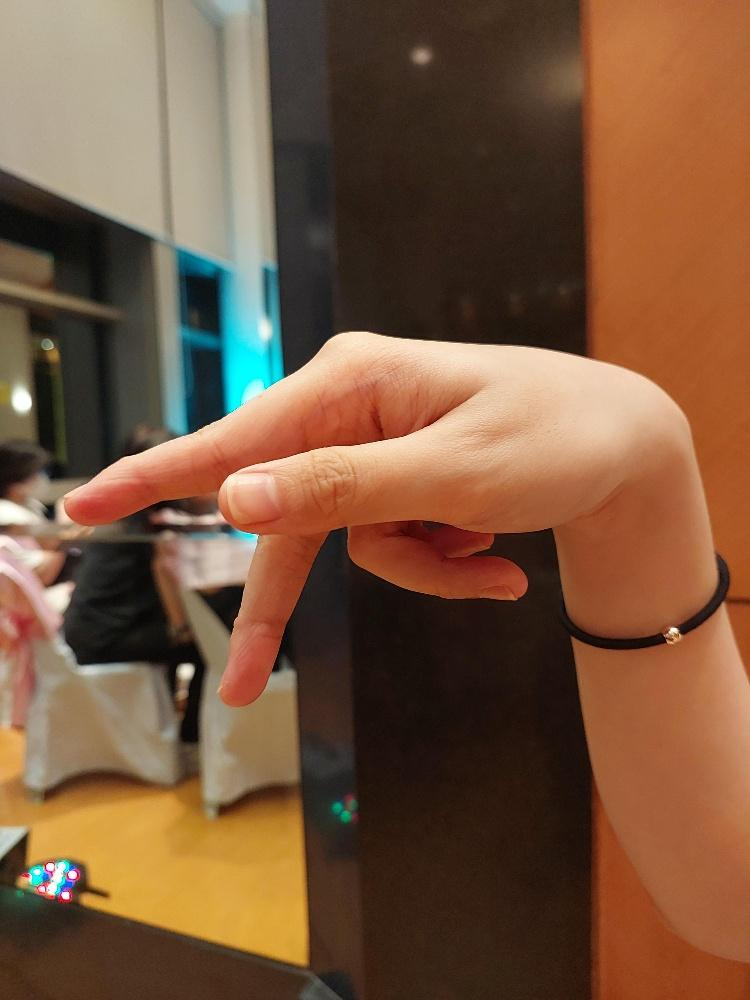p: (60, 325, 629, 708)
